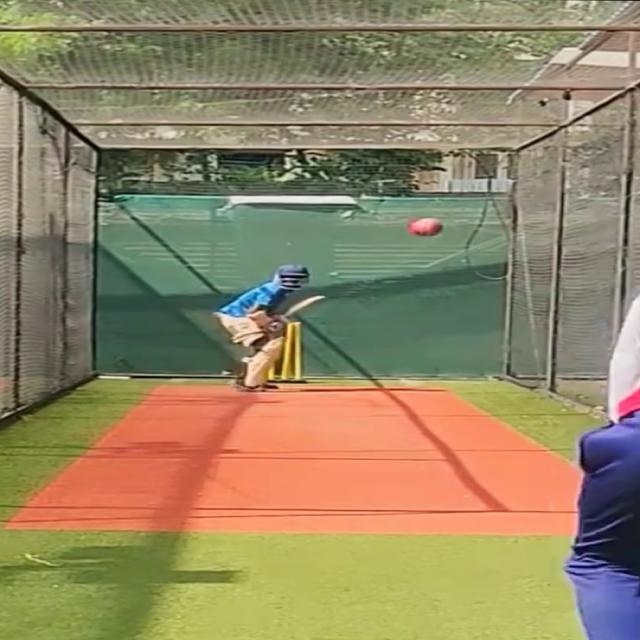ball: (409, 216, 447, 238)
stump: (280, 319, 308, 384)
